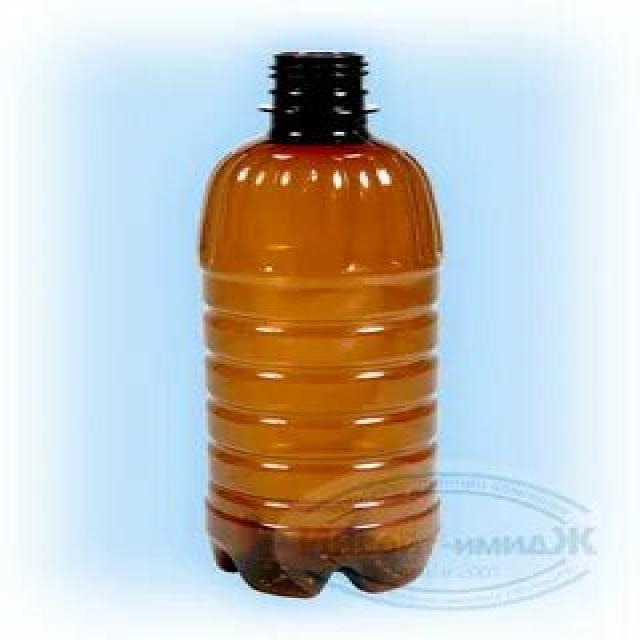brown: (202, 49, 438, 598)
